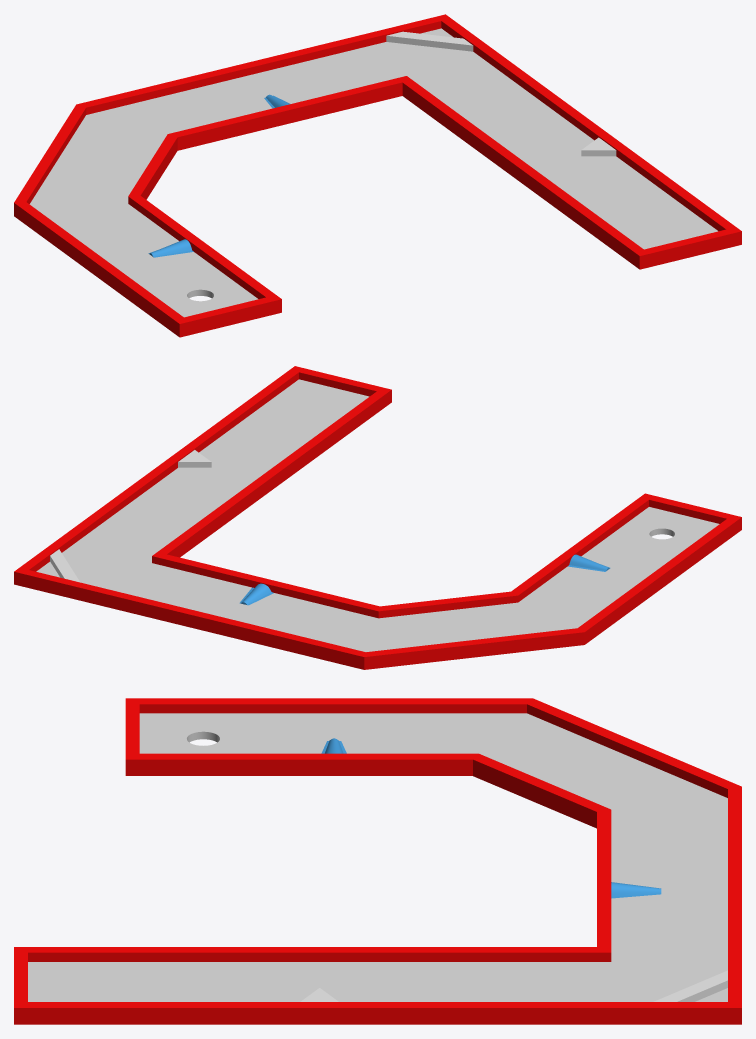
The model's file is BahnM10.fbx.
3 renders of one model, top to bottom at view 1: azimuth 30°, elevation 25°; view 2: azimuth 150°, elevation 25°; view 3: azimuth 270°, elevation 25°, orthographic. The views are drawn at different scales.
Visible parts, largest first — view 1: Track10; view 2: Track10; view 3: Track10.
Part boxes in pixels (x1,y1,x2,y2): Track10: [14, 14, 741, 337]; Track10: [14, 366, 741, 669]; Track10: [14, 698, 741, 1024].
Bounding box in the file's own units: 440 × 11 × 437.
